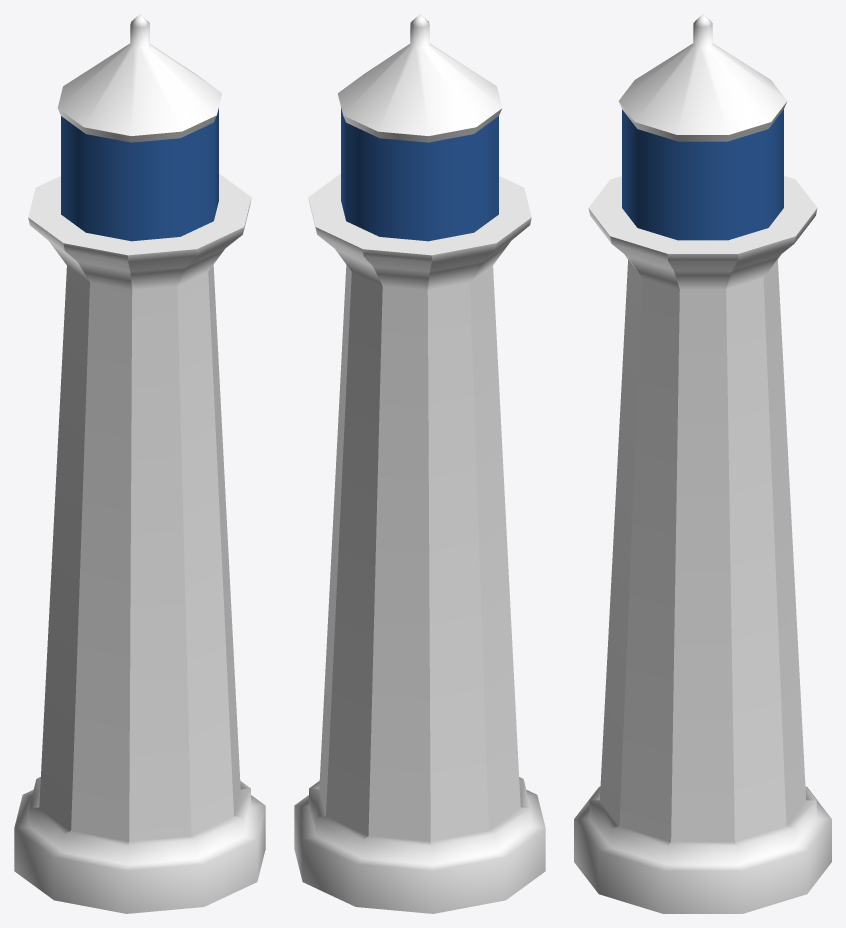
The model's file is Llighthouse.fbx.
The picture shows the model from 3 angles, left to right: view 1: azimuth 30°, elevation 25°; view 2: azimuth 150°, elevation 25°; view 3: azimuth 270°, elevation 25°; orthographic projection.
Parts seen in each view (by area): view 1: LightHouse_01, LightHouse_glass; view 2: LightHouse_01, LightHouse_glass; view 3: LightHouse_01, LightHouse_glass.
Boxes of the visible parts, x1,y1,x2,y2 form: LightHouse_01: (14,14,265,913); LightHouse_glass: (61,108,218,241); LightHouse_01: (294,14,545,913); LightHouse_glass: (341,108,498,241); LightHouse_01: (574,14,831,913); LightHouse_glass: (622,109,783,240).
Size of the model in its own units: 22.7 by 86.69 by 23.87.
